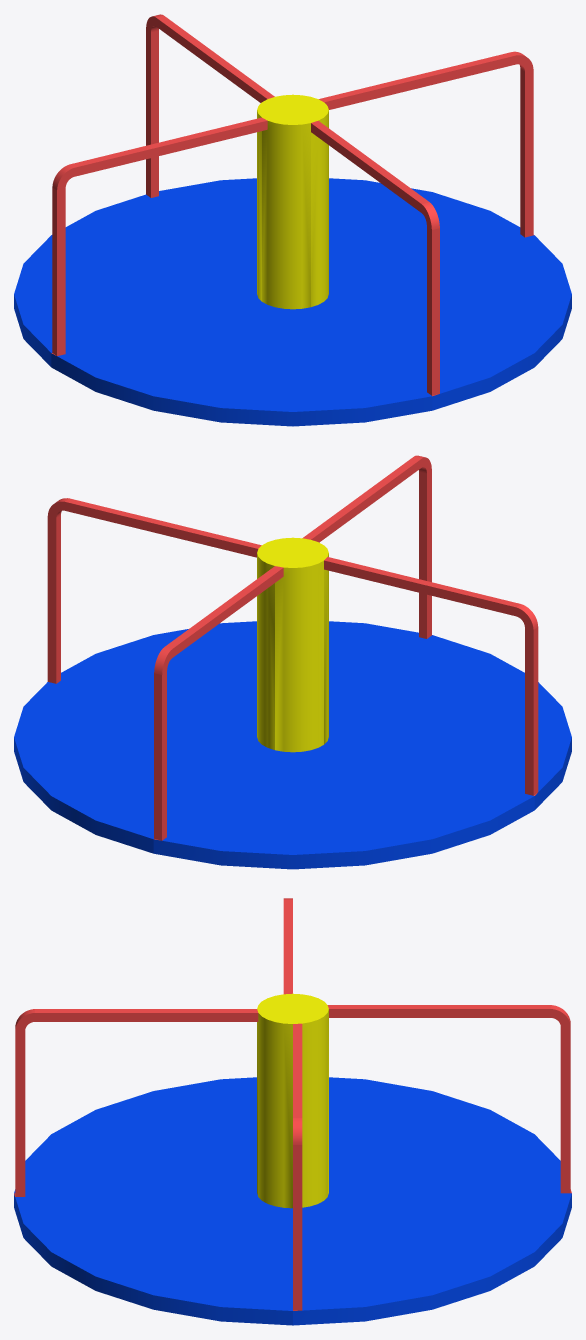
The model's file is merry_go_round.obj.
3 renders of one model, top to bottom at view 1: azimuth 30°, elevation 25°; view 2: azimuth 150°, elevation 25°; view 3: azimuth 270°, elevation 25°, orthographic.
Bounding box in the file's own units: 2.8 × 1.1 × 2.8.
